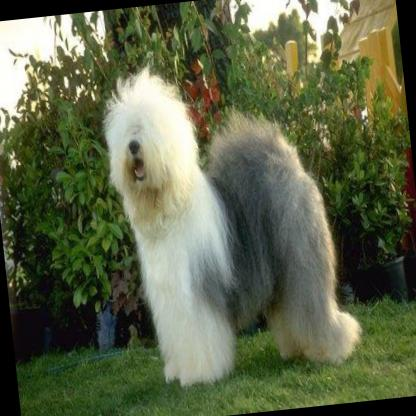Old_English_sheepdog: (94, 44, 362, 387)
